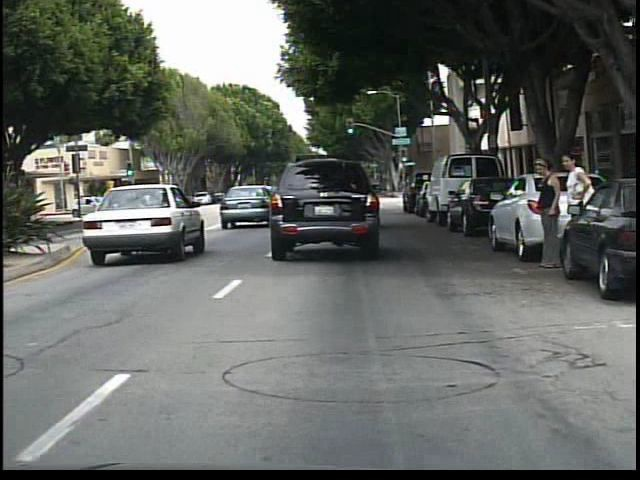person: (558, 149, 595, 267), (531, 158, 562, 274)
